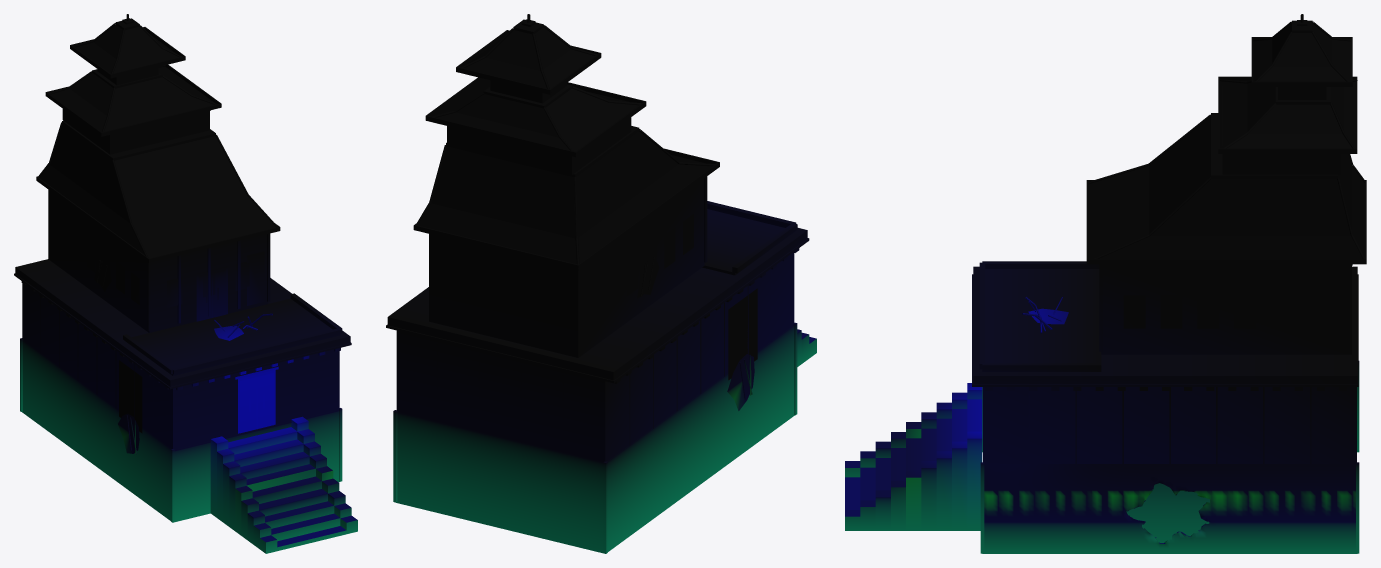
The model's file is l_palacecore_damaged.glb.
3 renders of one model, left to right at view 1: azimuth 30°, elevation 25°; view 2: azimuth 150°, elevation 25°; view 3: azimuth 270°, elevation 25°, orthographic. The views are drawn at different scales.
Visible parts, largest first — view 1: lod0; view 2: lod0; view 3: lod0.
Part boxes in pixels (left/top/right/bottom): lod0: left=14, top=14, right=357, bottom=553; lod0: left=386, top=14, right=816, bottom=553; lod0: left=845, top=14, right=1366, bottom=553.
Size of what is drawn, in the model's own units: 22.6 by 46.7 by 45.21.
